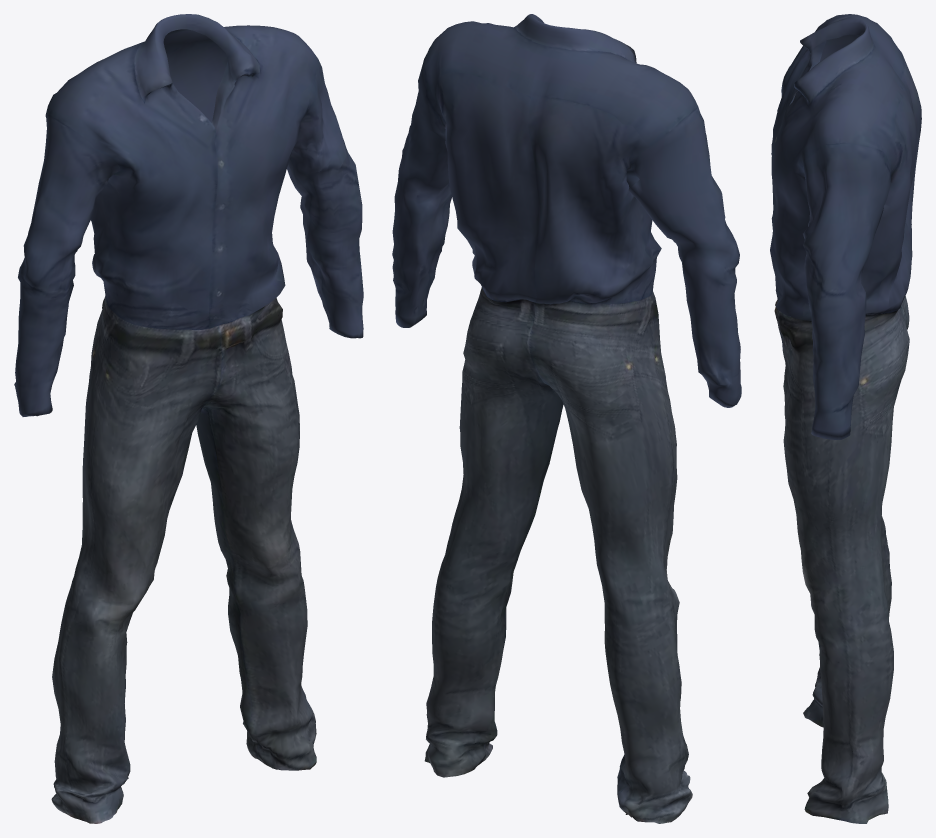
File: male-casualsuit01.glb
The picture shows the model from 3 angles, left to right: view 1: azimuth 30°, elevation 25°; view 2: azimuth 150°, elevation 25°; view 3: azimuth 270°, elevation 25°; orthographic projection. The views are drawn at different scales.
Parts seen in each view (by area): view 1: Human.male_casualsuit01; view 2: Human.male_casualsuit01; view 3: Human.male_casualsuit01.
Part boxes in pixels (bbox=[...]): Human.male_casualsuit01: bbox=[14, 14, 363, 823]; Human.male_casualsuit01: bbox=[392, 14, 741, 823]; Human.male_casualsuit01: bbox=[770, 14, 921, 823].
Size of the model in its own units: 0.7294 by 1.56 by 0.2902.
Materials: 1 (1 with a texture image).
